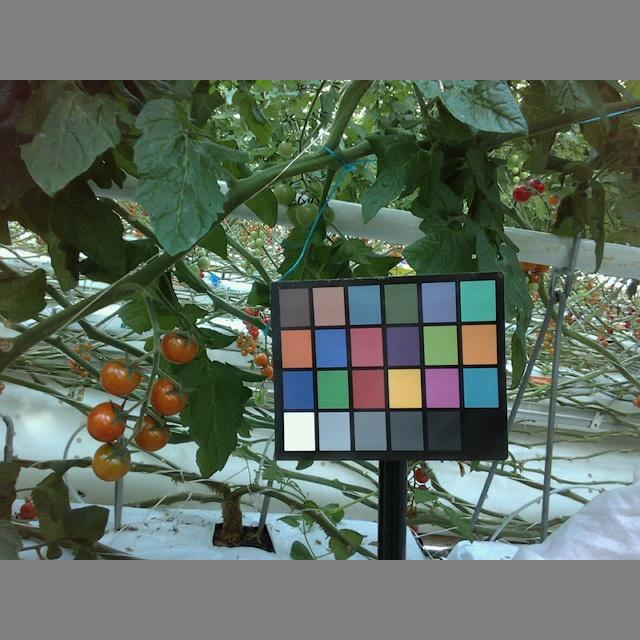pink: (147, 378, 192, 416), (88, 402, 127, 443), (101, 357, 142, 395), (94, 443, 132, 484), (159, 330, 200, 365), (132, 418, 173, 452)
